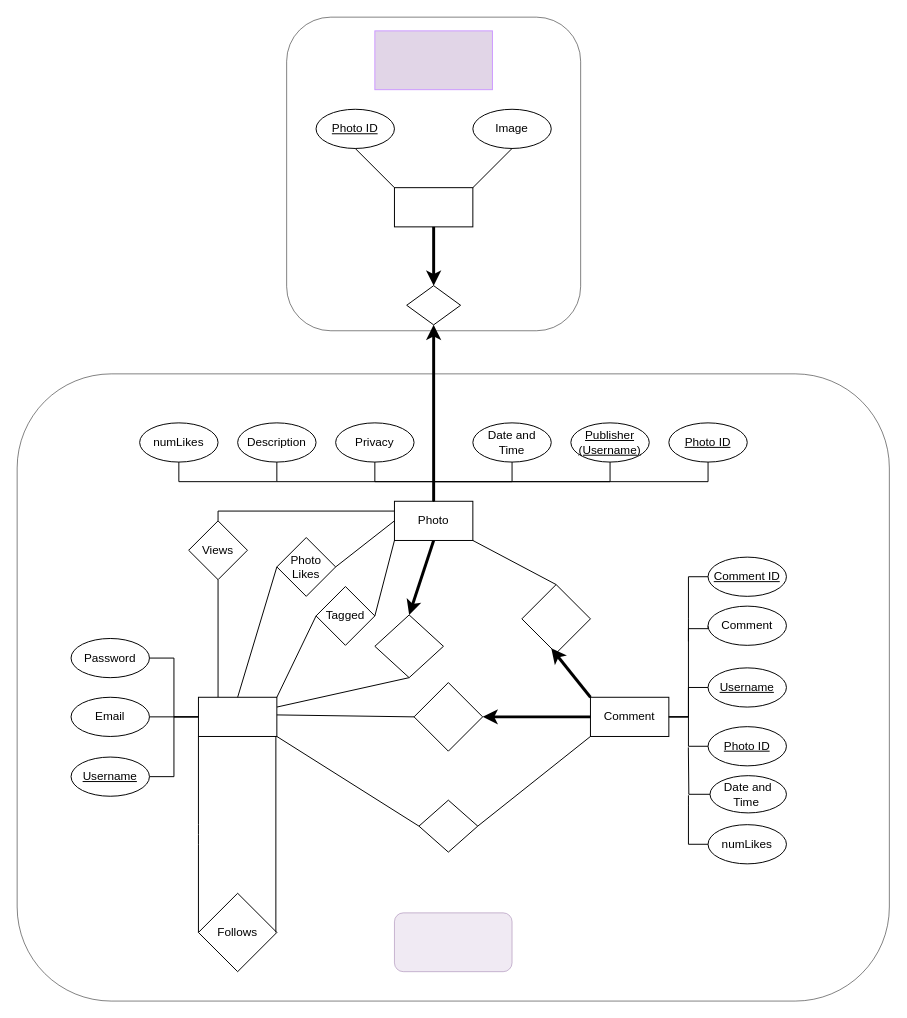
Image size: 907x1018. Some labels were removed from this diagram. Each missing label, with the centre of its shape:
"Comm- ented On" belongs at [555,618].
"Likes" belongs at [448,825].
"Makes Comment" belongs at [448,716].
"Must Have" belongs at [433,305].
"NoSQL" belongs at [433,60].
"Photo Data" belongs at [433,207].
"Publishes" belongs at [408,646].
"SQL" belongs at [452,942].
"User" belongs at [237,716].
